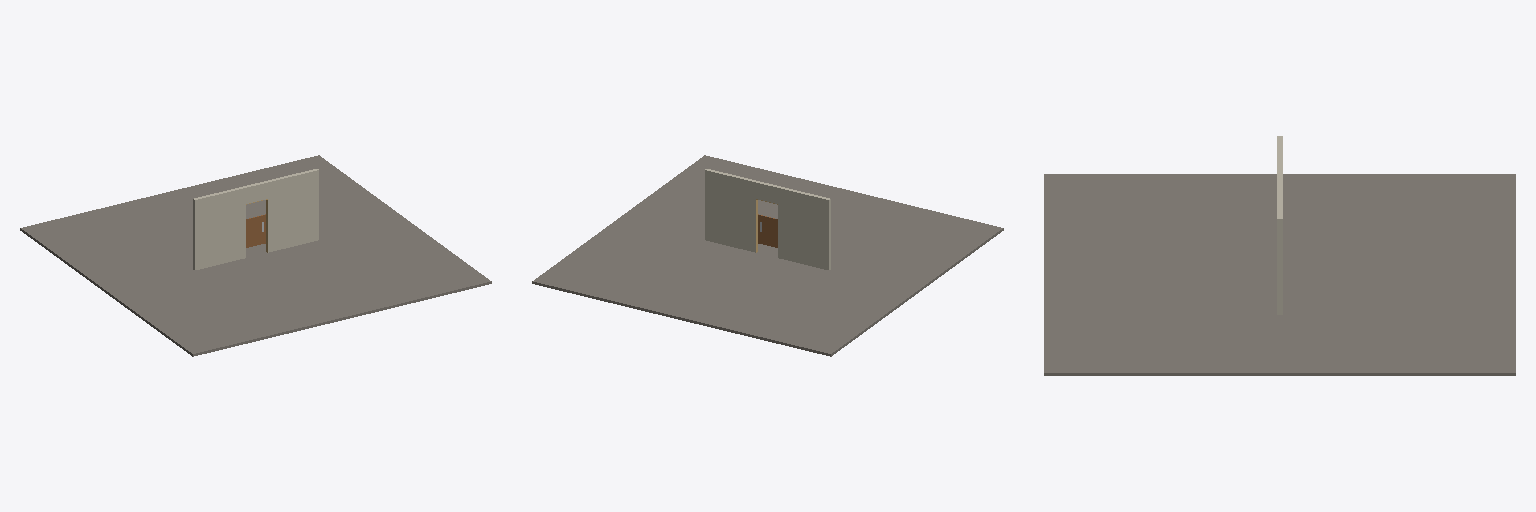
URDF robot description (db0300_saloon_minimal):
<?xml version="1.0" ?>
<robot xmlns:doorbench="https://github.com/adamraudonis/DoorBench/schema/urdf-ext" name="db0300_saloon_minimal">
  <link name="world_env">
    <visual name="floor_vis">
      <origin xyz="0 0 -0.05" rpy="0 0 0"/>
      <geometry>
        <box size="12 12 0.1"/>
      </geometry>
      <material name="mat_floor"/>
    </visual>
    <collision name="floor_col">
      <origin xyz="0 0 -0.05" rpy="0 0 0"/>
      <geometry>
        <box size="12 12 0.1"/>
      </geometry>
    </collision>
    <visual name="wall_left_vis">
      <origin xyz="-1.47425 0 1.35" rpy="0 0 0"/>
      <geometry>
        <box size="2.0515 0.145 2.7"/>
      </geometry>
      <material name="mat_wall"/>
    </visual>
    <collision name="wall_left_col">
      <origin xyz="-1.47425 0 1.35" rpy="0 0 0"/>
      <geometry>
        <box size="2.0515 0.145 2.7"/>
      </geometry>
    </collision>
    <visual name="wall_right_vis">
      <origin xyz="1.47425 0 1.35" rpy="0 0 0"/>
      <geometry>
        <box size="2.0515 0.145 2.7"/>
      </geometry>
      <material name="mat_wall"/>
    </visual>
    <collision name="wall_right_col">
      <origin xyz="1.47425 0 1.35" rpy="0 0 0"/>
      <geometry>
        <box size="2.0515 0.145 2.7"/>
      </geometry>
    </collision>
    <visual name="wall_header_vis">
      <origin xyz="0 0 2.3845" rpy="0 0 0"/>
      <geometry>
        <box size="0.897 0.145 0.631"/>
      </geometry>
      <material name="mat_wall"/>
    </visual>
    <collision name="wall_header_col">
      <origin xyz="0 0 2.3845" rpy="0 0 0"/>
      <geometry>
        <box size="0.897 0.145 0.631"/>
      </geometry>
    </collision>
    <visual name="jamb_hinge_vis">
      <origin xyz="-0.439 0 1.025" rpy="0 0 0"/>
      <geometry>
        <box size="0.019 0.145 2.05"/>
      </geometry>
      <material name="mat_frame"/>
    </visual>
    <collision name="jamb_hinge_col">
      <origin xyz="-0.439 0 1.025" rpy="0 0 0"/>
      <geometry>
        <box size="0.019 0.145 2.05"/>
      </geometry>
    </collision>
    <visual name="jamb_strike_vis">
      <origin xyz="0.439 0 1.025" rpy="0 0 0"/>
      <geometry>
        <box size="0.019 0.145 2.05"/>
      </geometry>
      <material name="mat_frame"/>
    </visual>
    <collision name="jamb_strike_col">
      <origin xyz="0.439 0 1.025" rpy="0 0 0"/>
      <geometry>
        <box size="0.019 0.145 2.05"/>
      </geometry>
    </collision>
    <visual name="stud_strike_vis">
      <origin xyz="0.4635 0 1.025" rpy="0 0 0"/>
      <geometry>
        <box size="0.03 0.145 2.05"/>
      </geometry>
      <material name="mat_wall"/>
    </visual>
    <collision name="stud_strike_col">
      <origin xyz="0.4635 0 1.025" rpy="0 0 0"/>
      <geometry>
        <box size="0.03 0.145 2.05"/>
      </geometry>
    </collision>
    <visual name="jamb_head_vis">
      <origin xyz="0.015 0 2.0595" rpy="0 0 0"/>
      <geometry>
        <box size="0.927 0.145 0.019"/>
      </geometry>
      <material name="mat_frame"/>
    </visual>
    <collision name="jamb_head_col">
      <origin xyz="0.015 0 2.0595" rpy="0 0 0"/>
      <geometry>
        <box size="0.927 0.145 0.019"/>
      </geometry>
    </collision>
    <visual name="head_stud_vis">
      <origin xyz="0.015 0 2.084" rpy="0 0 0"/>
      <geometry>
        <box size="0.927 0.145 0.03"/>
      </geometry>
      <material name="mat_wall"/>
    </visual>
    <collision name="head_stud_col">
      <origin xyz="0.015 0 2.084" rpy="0 0 0"/>
      <geometry>
        <box size="0.927 0.145 0.03"/>
      </geometry>
    </collision>
  </link>
  <link name="leaf">
    <inertial>
      <origin xyz="0.412544 0 0.904928" rpy="0 0 0"/>
      <mass value="23.91"/>
      <inertia ixx="2.332267863" ixy="0" ixz="-0.031514238" iyy="3.628758616" iyz="0" izz="1.30187159"/>
    </inertial>
    <visual name="leaf_slab_vis">
      <origin xyz="0.4 0 0.9" rpy="0 0 0"/>
      <geometry>
        <box size="0.8 0.035 1.1"/>
      </geometry>
      <material name="mat_leaf"/>
    </visual>
    <collision name="leaf_slab_col">
      <origin xyz="0.4 0 0.9" rpy="0 0 0"/>
      <geometry>
        <box size="0.8 0.035 1.1"/>
      </geometry>
    </collision>
    <visual name="leaf_push_plate_n_vis">
      <origin xyz="0.68 -0.0183 1.01" rpy="0 0 0"/>
      <geometry>
        <box size="0.1 0.0016 0.4"/>
      </geometry>
      <material name="mat_op_stainless"/>
    </visual>
    <visual name="leaf_push_plate_p_vis">
      <origin xyz="0.68 0.0183 1.01" rpy="0 0 0"/>
      <geometry>
        <box size="0.1 0.0016 0.4"/>
      </geometry>
      <material name="mat_op_stainless"/>
    </visual>
  </link>
  <joint name="leaf_hinge" type="revolute">
    <origin xyz="-0.406 0 0" rpy="0 0 0"/>
    <parent link="world_env"/>
    <child link="leaf"/>
    <axis xyz="0 0 1"/>
    <limit lower="-1.570796" upper="1.570796" effort="2000" velocity="10"/>
    <dynamics damping="0.831371" friction="0.844117"/>
    <doorbench:spring stiffness="5.2" springref="0" note="tau = -stiffness*(q - springref); not native URDF"/>
    <doorbench:closer damping_closing="1.5" damping_opening="1.5" backcheck_angle="0" backcheck_damping="0"/>
  </joint>
  <material name="mat_floor">
    <color rgba="0.55 0.53 0.5 1"/>
  </material>
  <material name="mat_frame">
    <color rgba="0.82 0.7 0.5 1"/>
  </material>
  <material name="mat_leaf">
    <color rgba="0.62 0.45 0.3 1"/>
  </material>
  <material name="mat_op_stainless">
    <color rgba="0.75 0.76 0.77 1"/>
  </material>
  <material name="mat_wall">
    <color rgba="0.78 0.76 0.7 1"/>
  </material>
</robot>

--- Facts derived from the render (not from the file) ---
Views: 3 orthographic renders of the robot side by side, from view 1: azimuth 30°, elevation 25°; view 2: azimuth 150°, elevation 25°; view 3: azimuth 270°, elevation 25°.
Robot: db0300_saloon_minimal — 2 links, 1 joints (1 revolute); root link world_env; default pose: all joints at 0.
Visible links, largest first — view 1: world_env, leaf; view 2: world_env, leaf; view 3: world_env.
Link boxes in pixels (x1=…): world_env: x1=20, y1=155, x2=491, y2=356; leaf: x1=246, y1=214, x2=265, y2=247; world_env: x1=532, y1=155, x2=1003, y2=356; leaf: x1=758, y1=214, x2=777, y2=247; world_env: x1=1044, y1=136, x2=1515, y2=375.
Size in the robot's own frame: 12 by 12 by 2.8 metres.
Geometry: primitives only (box / cylinder / sphere), no mesh files.
